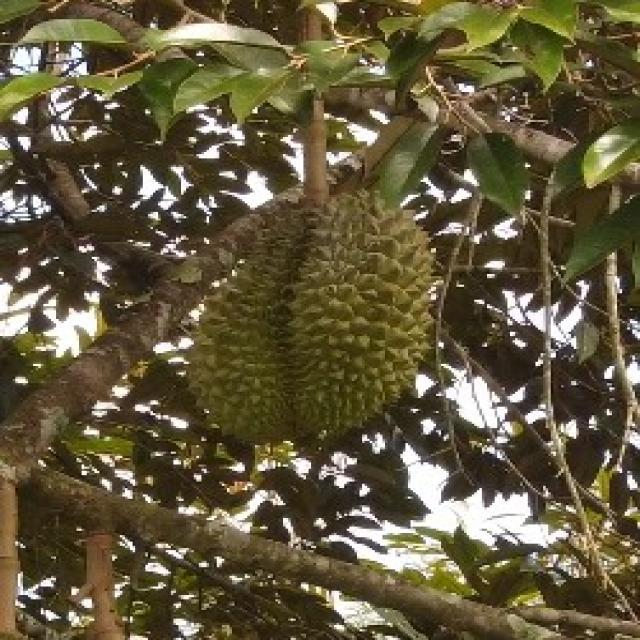immature: (184, 183, 438, 448)
